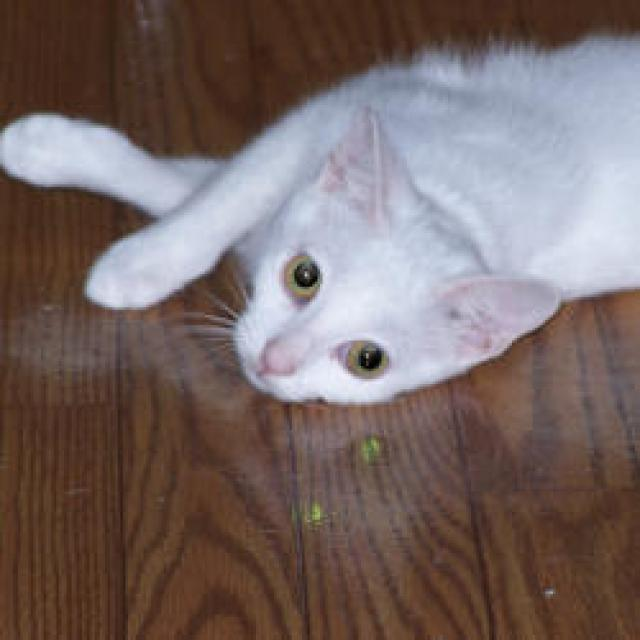Cats: (0, 23, 637, 407)
